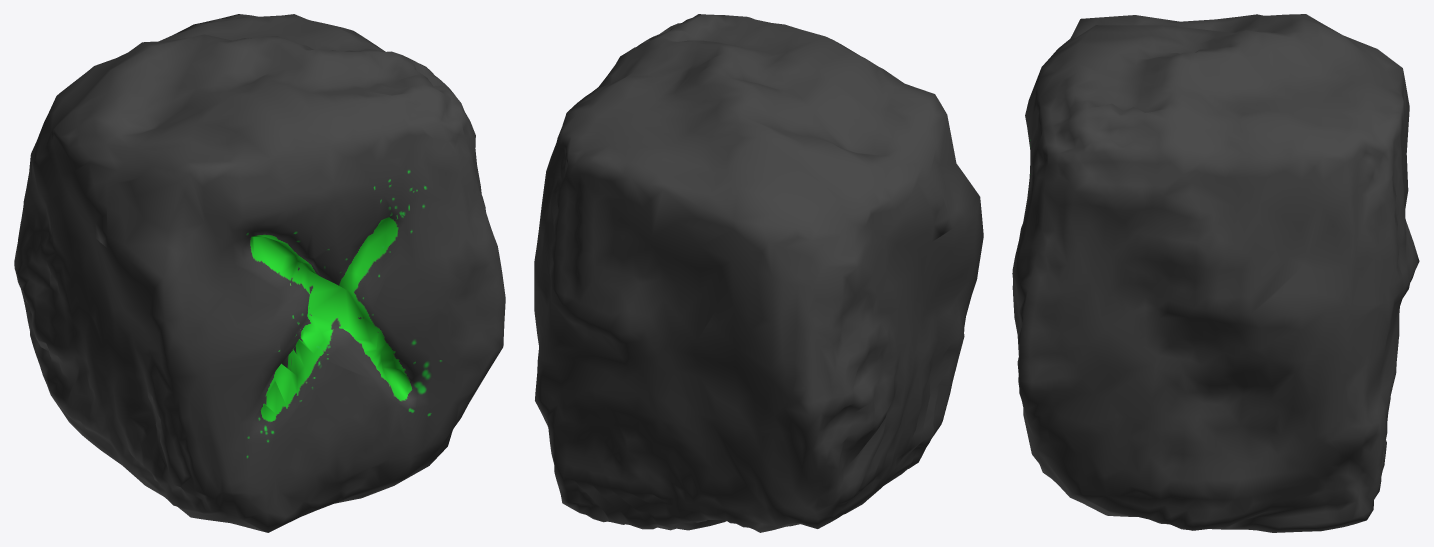
File: big_rock.fbx
3 renders of one model, left to right at view 1: azimuth 30°, elevation 25°; view 2: azimuth 150°, elevation 25°; view 3: azimuth 270°, elevation 25°, orthographic. The views are drawn at different scales.
Parts seen in each view (by area): view 1: big_rock; view 2: big_rock; view 3: big_rock.
Boxes of the visible parts, left/top/right/bottom form: big_rock: left=14, top=14, right=505, bottom=532; big_rock: left=534, top=14, right=983, bottom=532; big_rock: left=1012, top=14, right=1419, bottom=532.
Bounding box in the file's own units: 86.56 × 99.87 × 82.78.
Materials: 1 (1 with a texture image).
